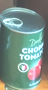tomatoes: (1, 7, 44, 90)
